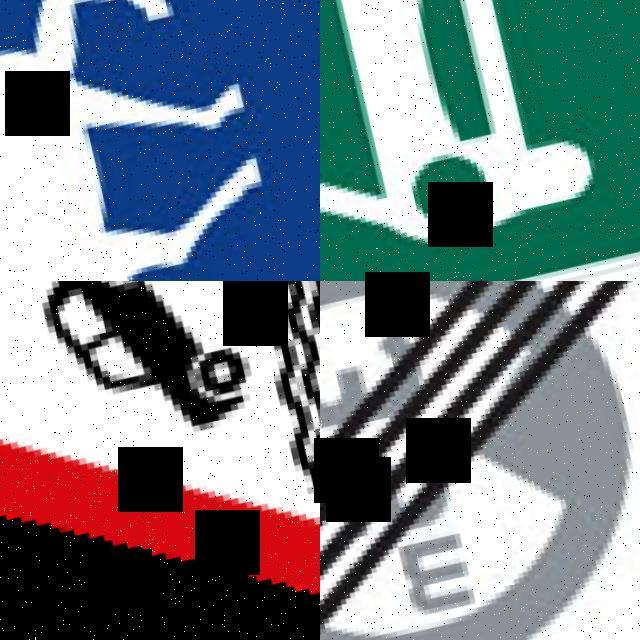111: (320, 281, 640, 640)
73: (320, 0, 640, 281)
97: (0, 0, 320, 281)
Unprotected quay: (0, 281, 320, 640)
